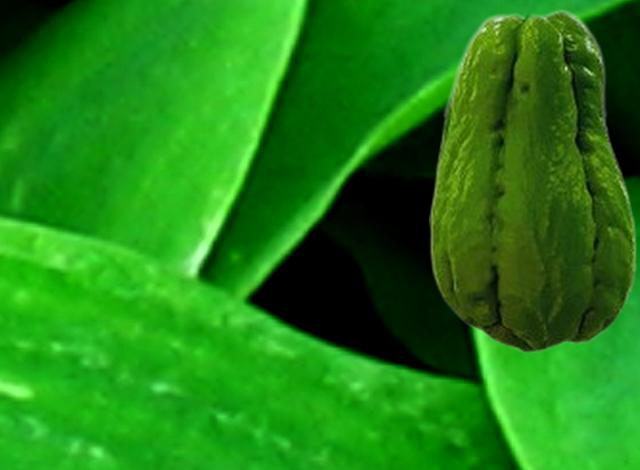sayote: (429, 8, 636, 353)
